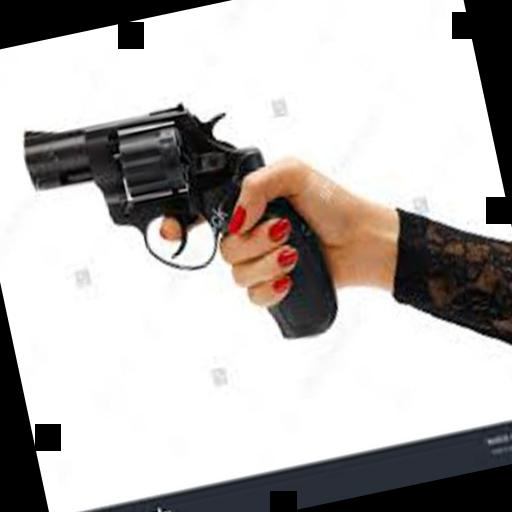Handgun: (12, 68, 346, 386)
